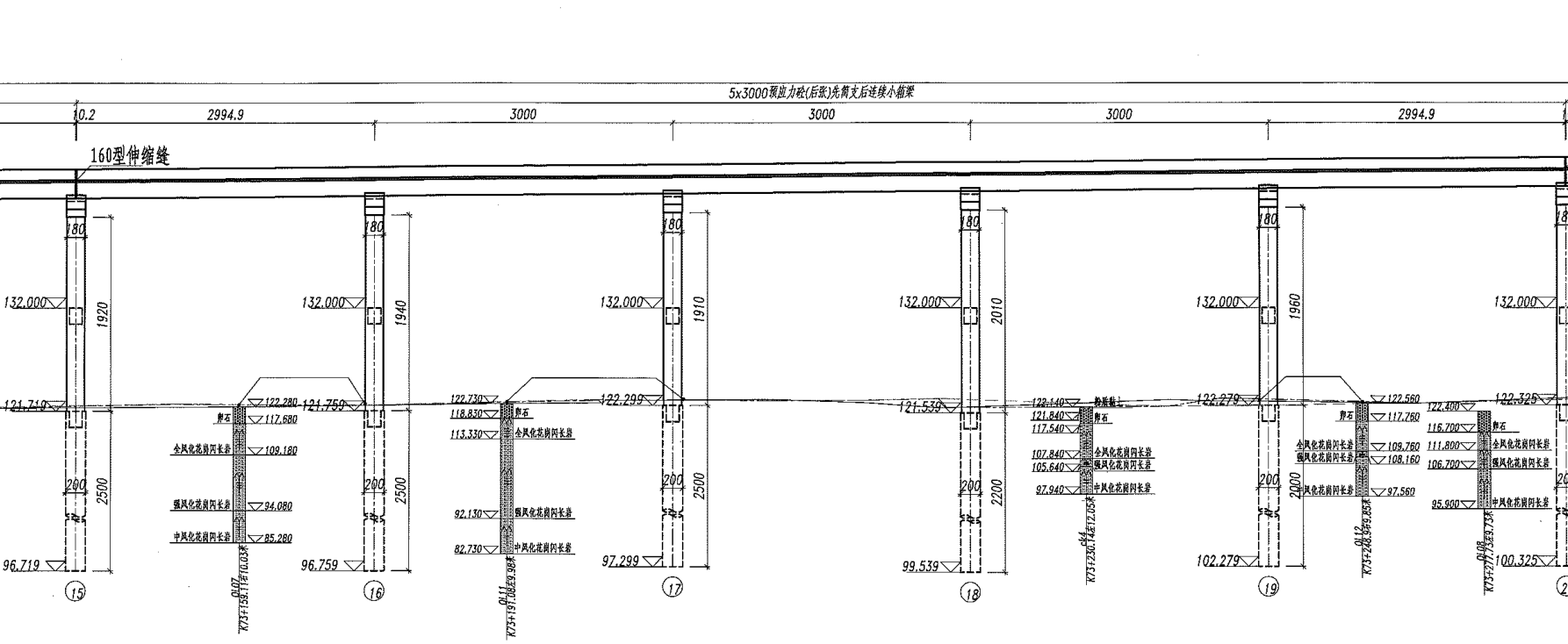C: (882, 178, 1001, 611), (1180, 177, 1298, 606), (586, 180, 703, 608), (290, 181, 405, 614), (0, 190, 105, 618), (1480, 173, 1567, 612)
